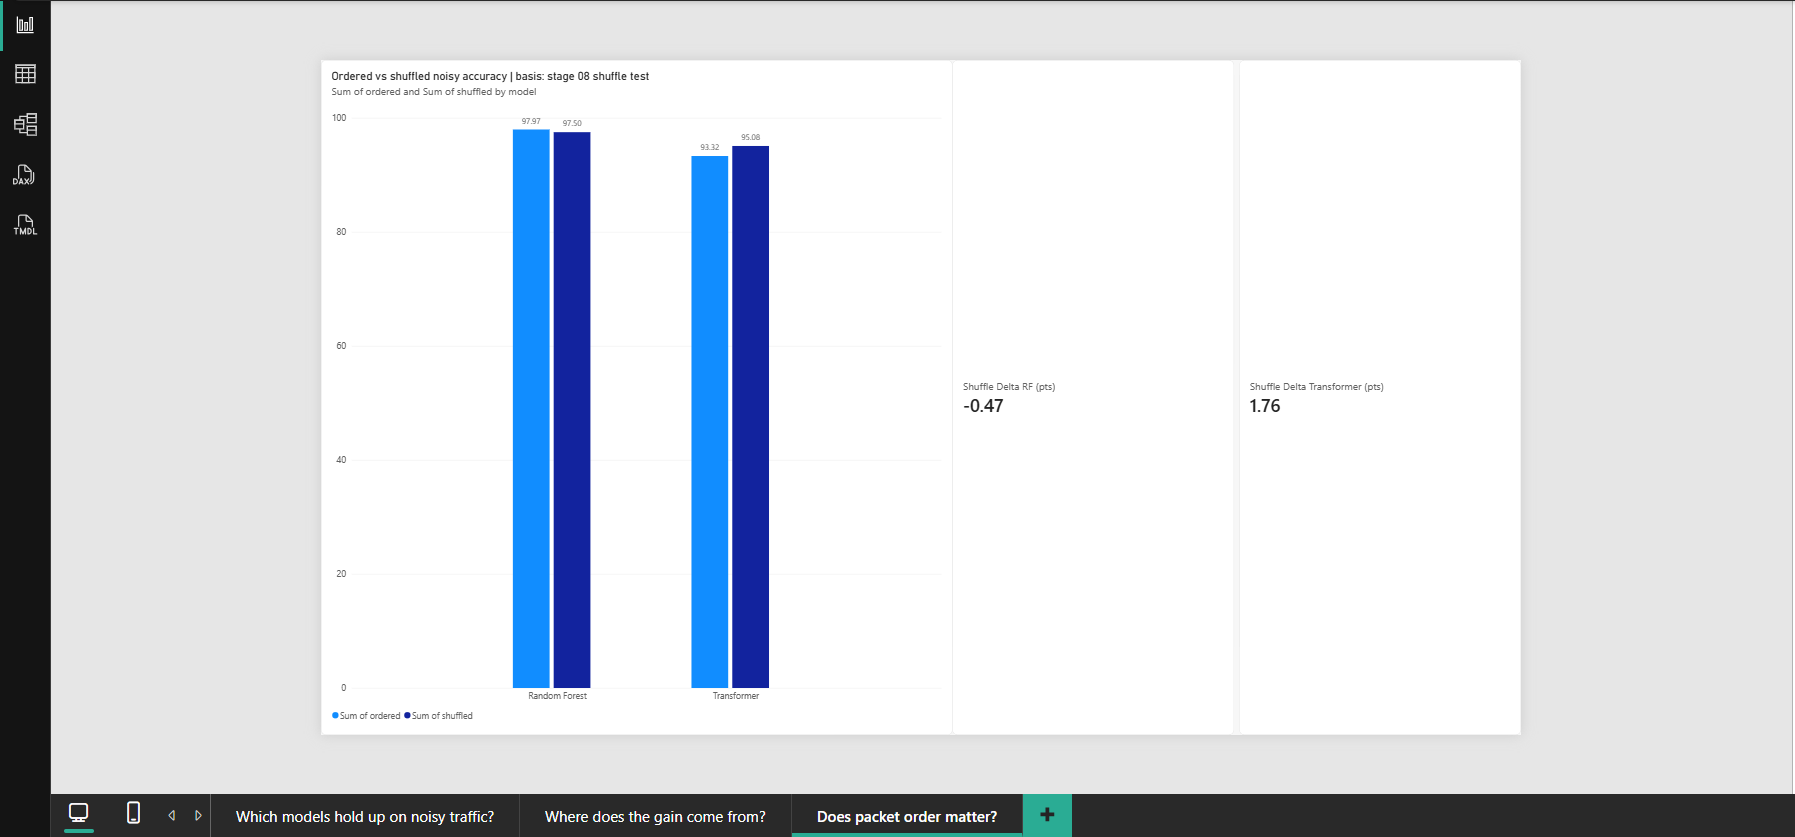

This screenshot's page, from the dashboard's own definition file:
{"tool":"powerbi","page":{"name":"Does packet order matter?","canvas":[1920,1080],"ordinal":2},"visuals":[{"type":"clusteredColumnChart","title":"Ordered vs shuffled noisy accuracy | basis: stage 08 shuffle test","fields":{"Category":["fact_wifi_shuffle.model"],"Y":["Sum(fact_wifi_shuffle.ordered)","Sum(fact_wifi_shuffle.shuffled)"]},"box":[0,0,682.6,1080.5],"z":0},{"type":"cardVisual","fields":{"Data":["fact_wifi_model_results.Shuffle Delta RF (pts)","fact_wifi_model_results.Shuffle Delta Transformer (pts)"]},"box":[693.5,0,1226.5,1080.5],"z":1}]}

Visuals, with their boxes on the page's 1920x1080 design canvas (x1, y1, x2, y2). These are canvas units, not pixel positions in the 1795x837 screenshot, which may show the page scaled, cropped or inside an application window:
"Ordered vs shuffled noisy accuracy | basis: stage 08 shuffle test" clusteredColumnChart: bbox(0, 0, 683, 1080)
cardVisual - fact_wifi_model_results.Shuffle Delta RF (pts) x fact_wifi_model_results.Shuffle Delta Transformer (pts): bbox(694, 0, 1920, 1080)
